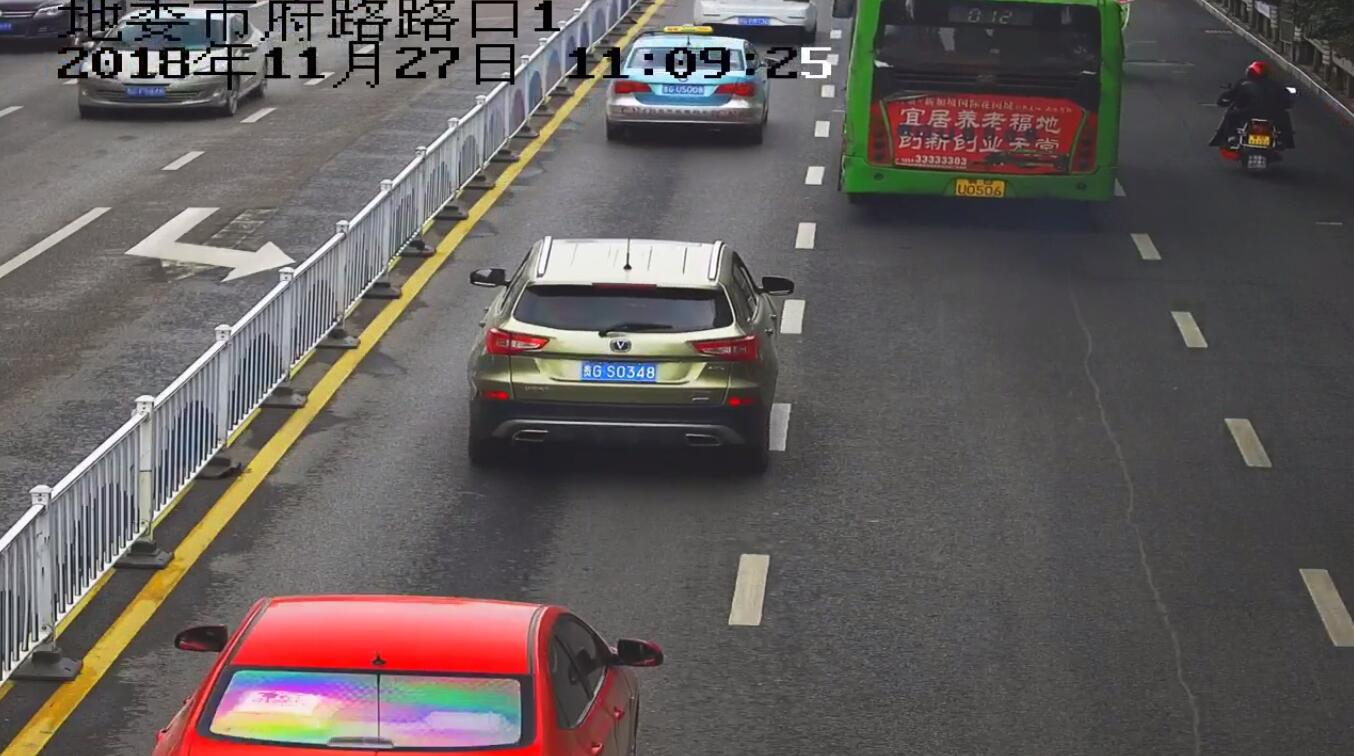yanwu: (925, 204, 1151, 327)
